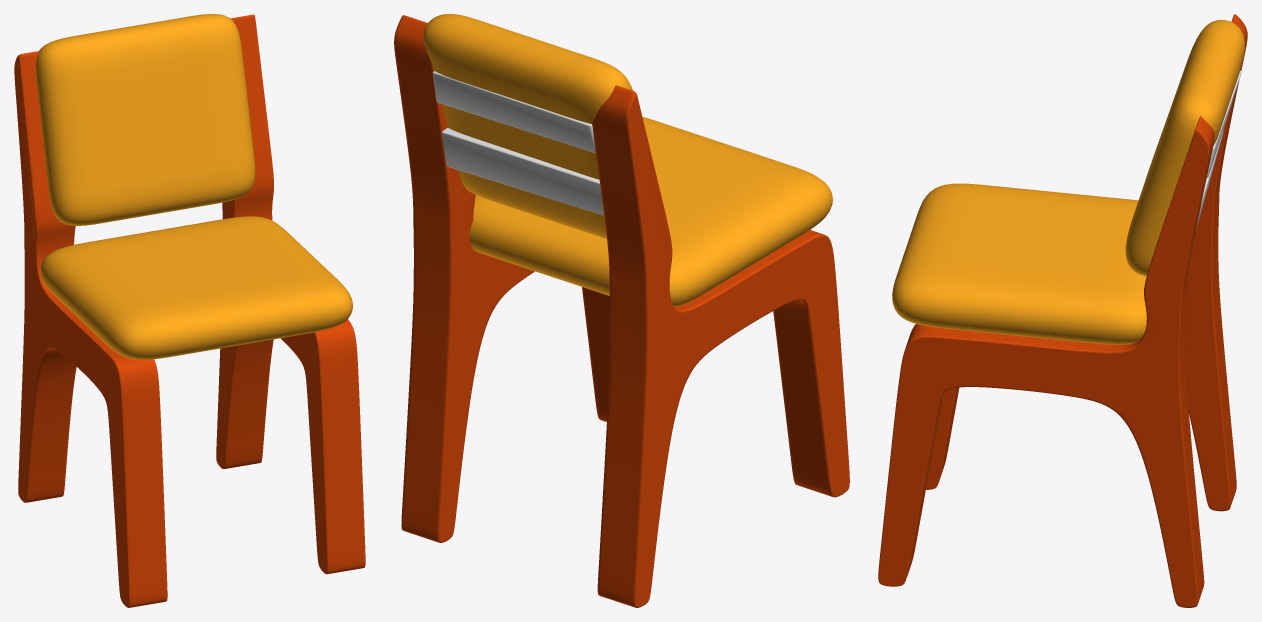
The model's file is Chair.glb.
The picture shows the model from 3 angles, left to right: view 1: azimuth 30°, elevation 25°; view 2: azimuth 150°, elevation 25°; view 3: azimuth 270°, elevation 25°; orthographic projection. The views are drawn at different scales.
Visible parts, largest first — view 1: Plane.001, Plane; view 2: Plane, Plane.001, Plane.002; view 3: Plane, Plane.001, Plane.002.
Part boxes in pixels (x1,y1,x2,y2): Plane.001: [36, 14, 352, 359]; Plane: [14, 14, 365, 607]; Plane: [394, 15, 849, 607]; Plane.001: [423, 14, 832, 307]; Plane.002: [433, 71, 604, 215]; Plane: [878, 14, 1247, 607]; Plane.001: [892, 19, 1244, 344]; Plane.002: [1195, 71, 1241, 231].
Size of the model in its own units: 0.2471 by 0.4177 by 0.2851.
